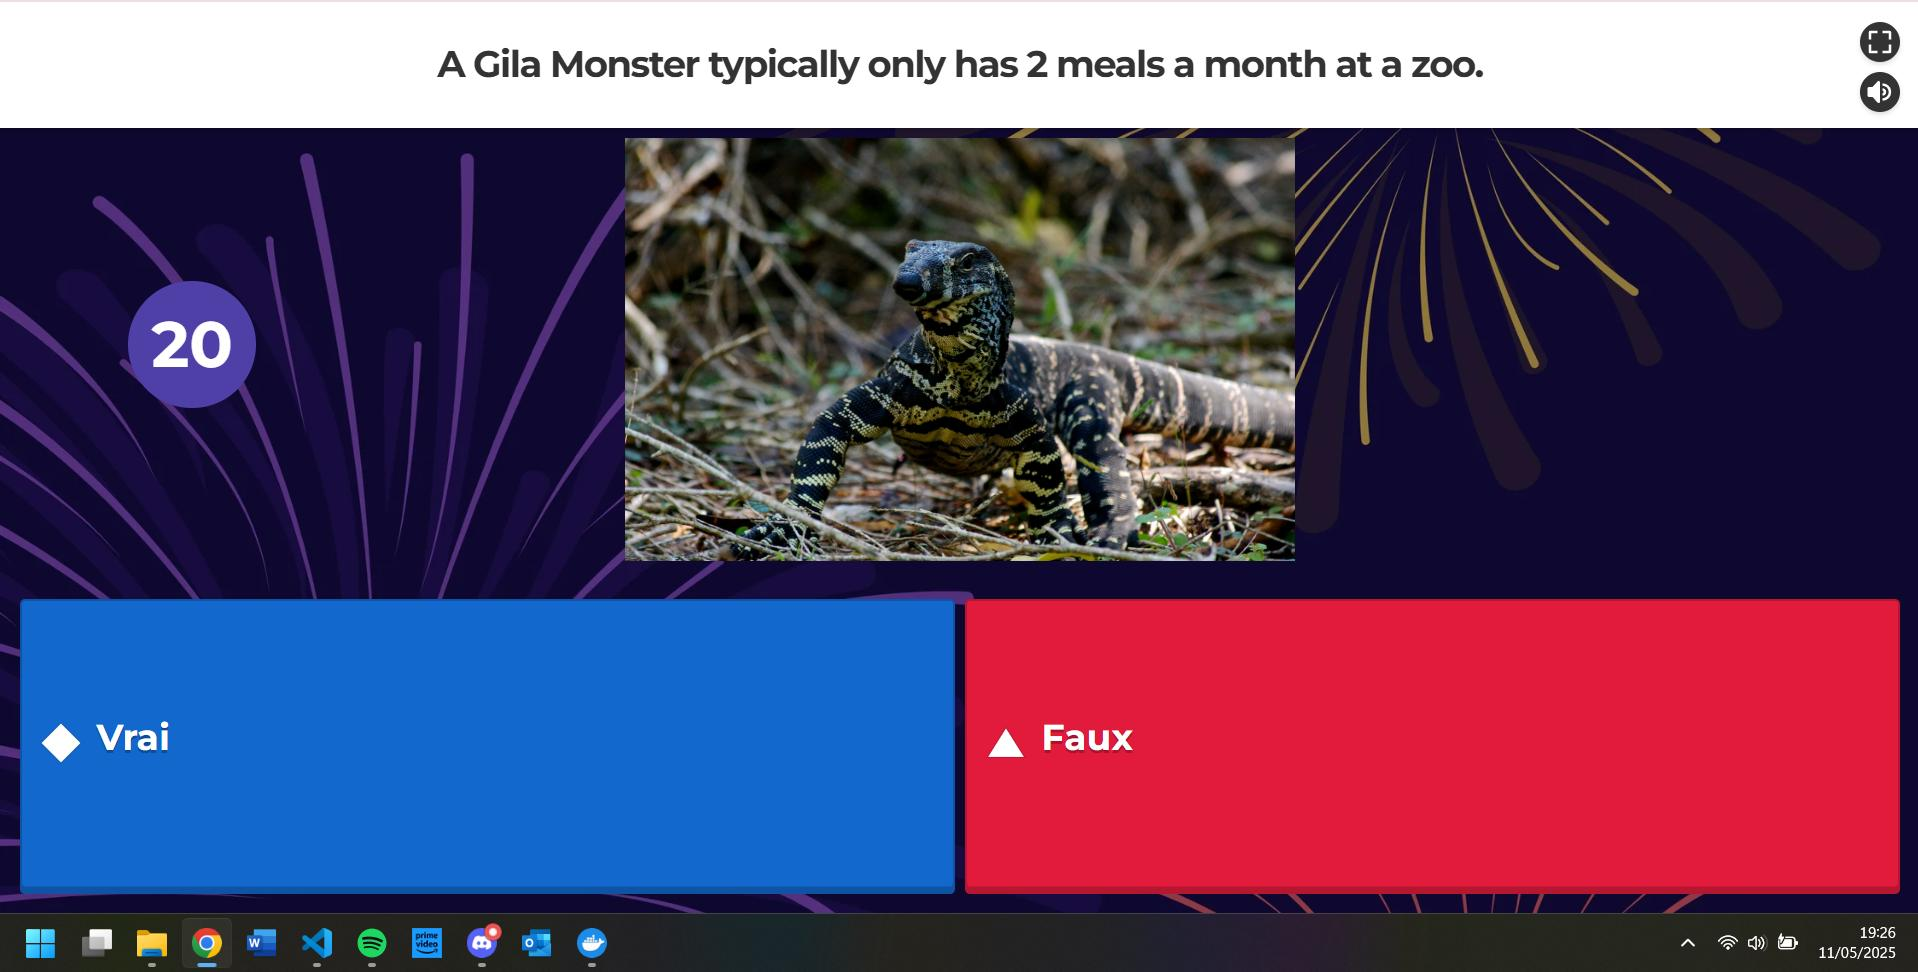answer_blue: (24, 600, 952, 895)
answer_red: (966, 603, 1894, 889)
question_box: (0, 9, 1814, 128)
